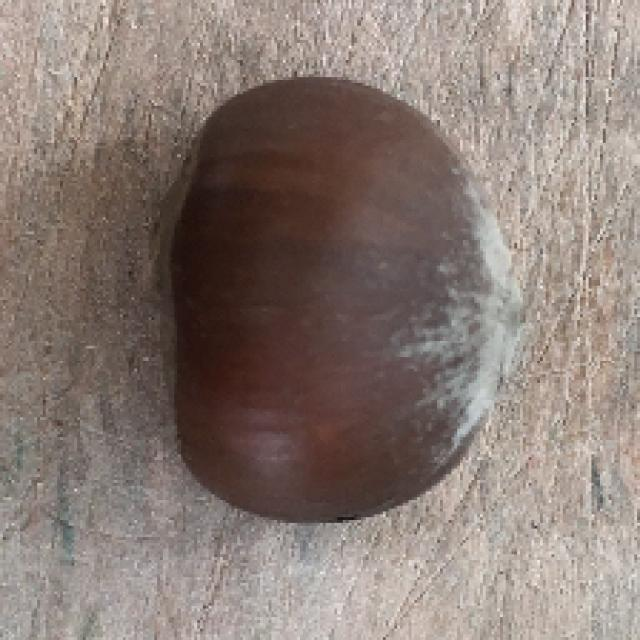damagedHazelnut: (143, 79, 527, 527)
